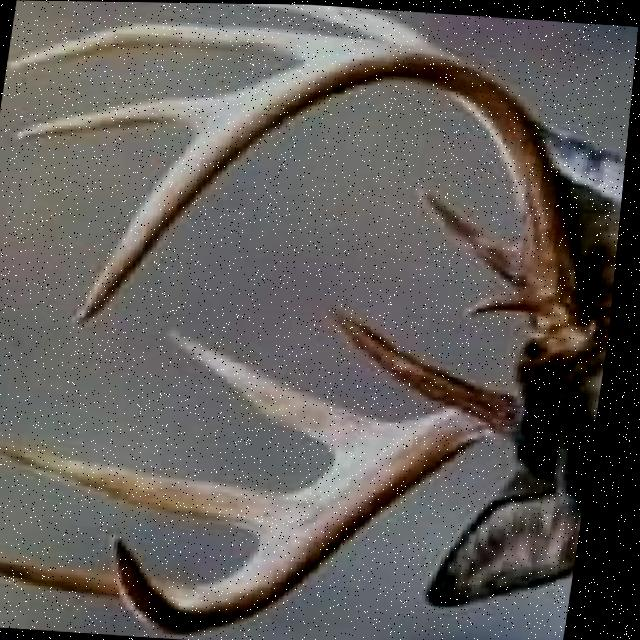L-F: (124, 383, 530, 634)
L-G1: (327, 304, 490, 403)
L-G2: (170, 326, 393, 456)
L-G3: (0, 430, 304, 536)
R-F: (77, 41, 607, 361)
R-G1: (465, 288, 532, 316)
R-G2: (420, 184, 526, 287)
R-G3: (241, 3, 433, 41)
R-G4: (8, 20, 387, 73)
R-G5: (10, 94, 224, 142)
